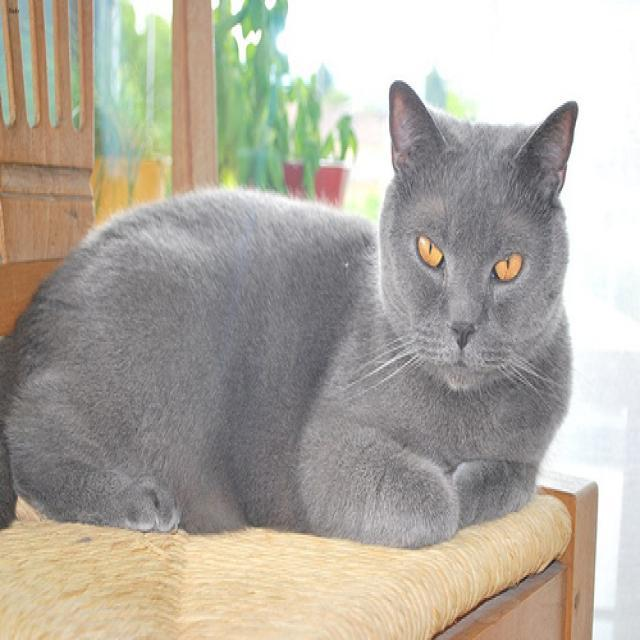British_Shorthair: (377, 73, 573, 410)
